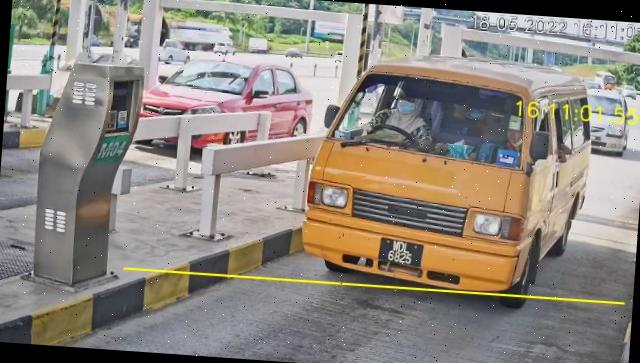License_Plate: (377, 236, 426, 271)
van: (299, 49, 597, 314)
